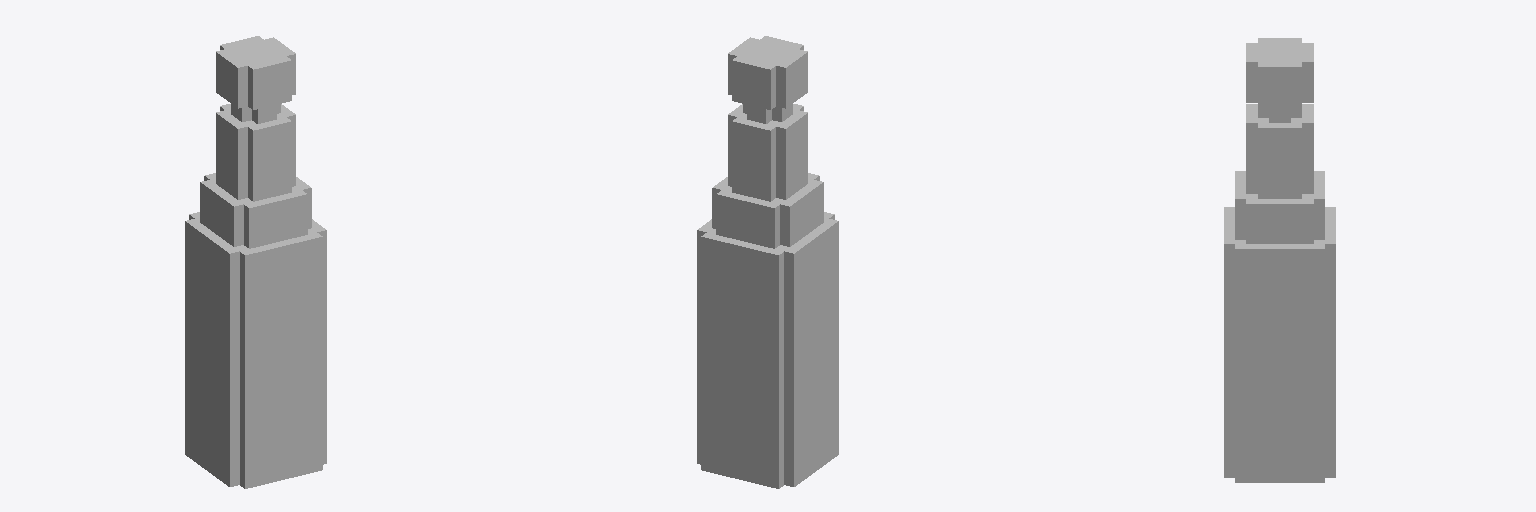
Rendered from OrangeJuice.obj.
3 views of the same model, side by side, from view 1: azimuth 30°, elevation 25°; view 2: azimuth 150°, elevation 25°; view 3: azimuth 270°, elevation 25° (orthographic).
Visible parts, largest first — view 1: object 1; view 2: object 1; view 3: object 1.
Part boxes in pixels (bbox=[...]): object 1: bbox=[185, 36, 326, 488]; object 1: bbox=[697, 36, 838, 488]; object 1: bbox=[1224, 38, 1335, 482].
Bounding box in the file's own units: 1 × 4 × 1.